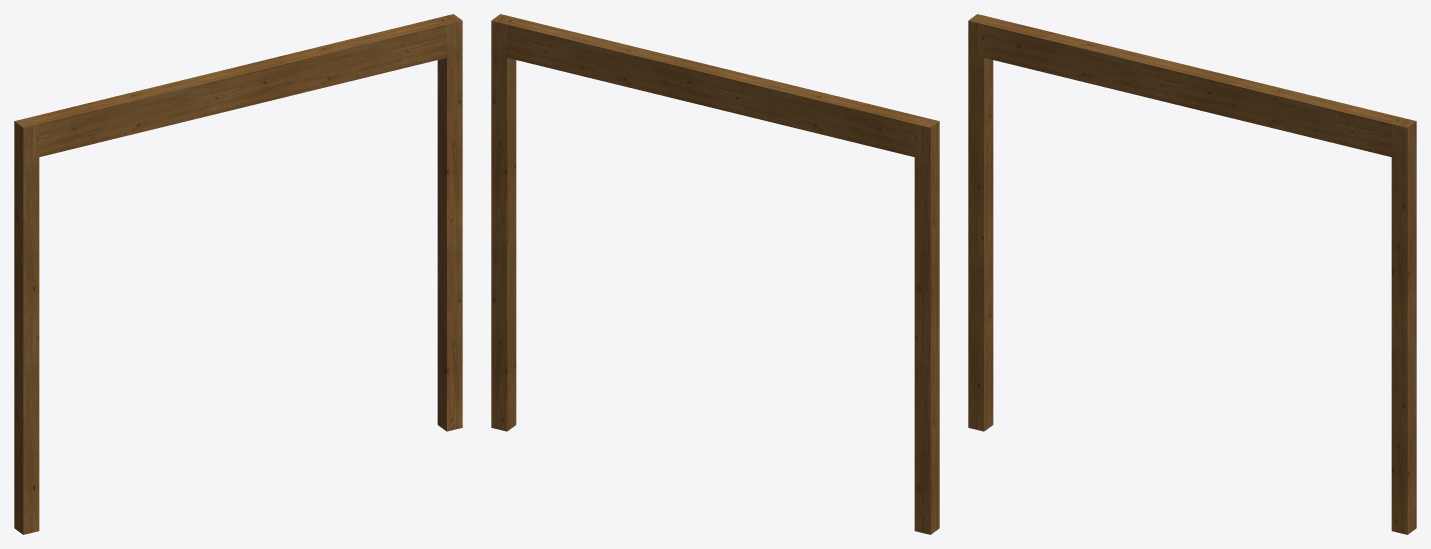
File: hyr-frame_h22-w27_naturalpine.fbx
The picture shows the model from 3 angles, left to right: view 1: azimuth 30°, elevation 25°; view 2: azimuth 150°, elevation 25°; view 3: azimuth 330°, elevation 25°; orthographic projection.
Visible parts, largest first — view 1: hyr-frame_h22-w27_naturalpine; view 2: hyr-frame_h22-w27_naturalpine; view 3: hyr-frame_h22-w27_naturalpine.
Part boxes in pixels (x1,y1,x2,y2): hyr-frame_h22-w27_naturalpine: [14, 14, 462, 534]; hyr-frame_h22-w27_naturalpine: [491, 14, 939, 534]; hyr-frame_h22-w27_naturalpine: [968, 14, 1416, 534].
Bounding box in the file's own units: 277 × 245 × 10.
Materials: 1 (1 with a texture image).
